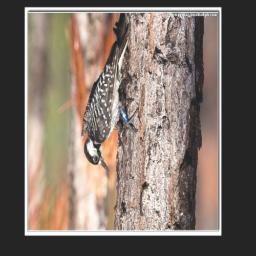Woodpecker: (76, 13, 146, 178)
